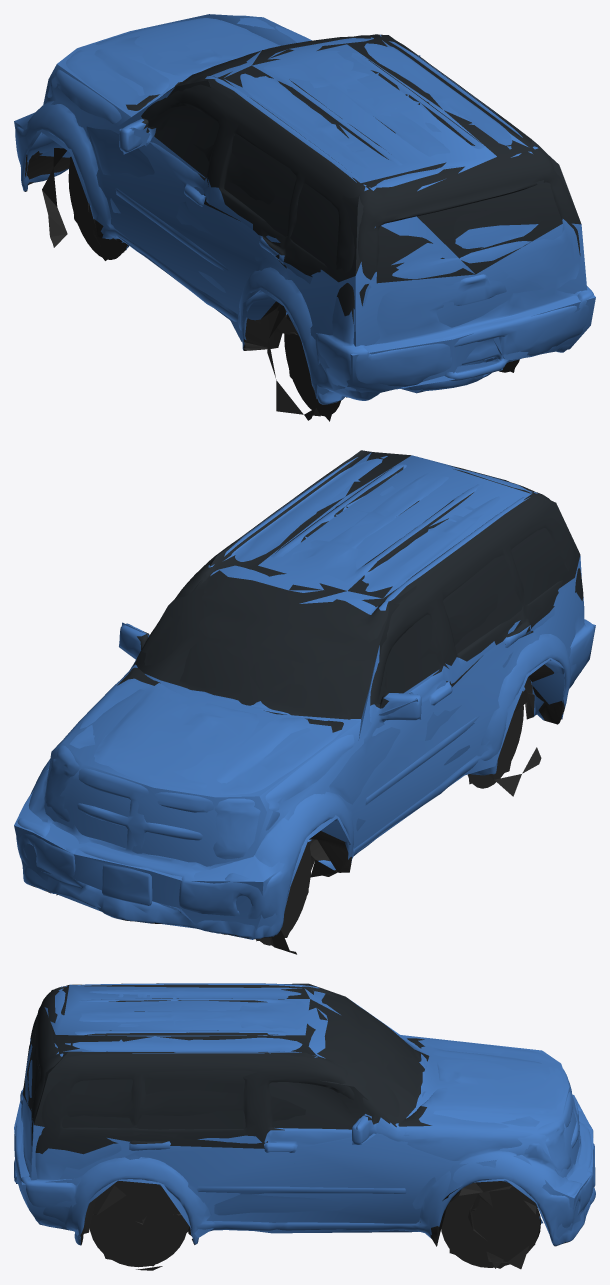
The model's file is dodge-nitro.glb.
3 renders of one model, top to bottom at view 1: azimuth 30°, elevation 25°; view 2: azimuth 150°, elevation 25°; view 3: azimuth 270°, elevation 25°, orthographic. The views are drawn at different scales.
Visible parts, largest first — view 1: body, far; view 2: body, far; view 3: body, far.
Boxes of the visible parts, bbox=[...] form: body: bbox=[15, 15, 593, 420]; far: bbox=[14, 14, 595, 421]; body: bbox=[16, 456, 594, 954]; far: bbox=[14, 450, 595, 948]; body: bbox=[14, 983, 595, 1270]; far: bbox=[14, 983, 593, 1268].
Size of the model in its own units: 2.24 by 1.89 by 4.59.
